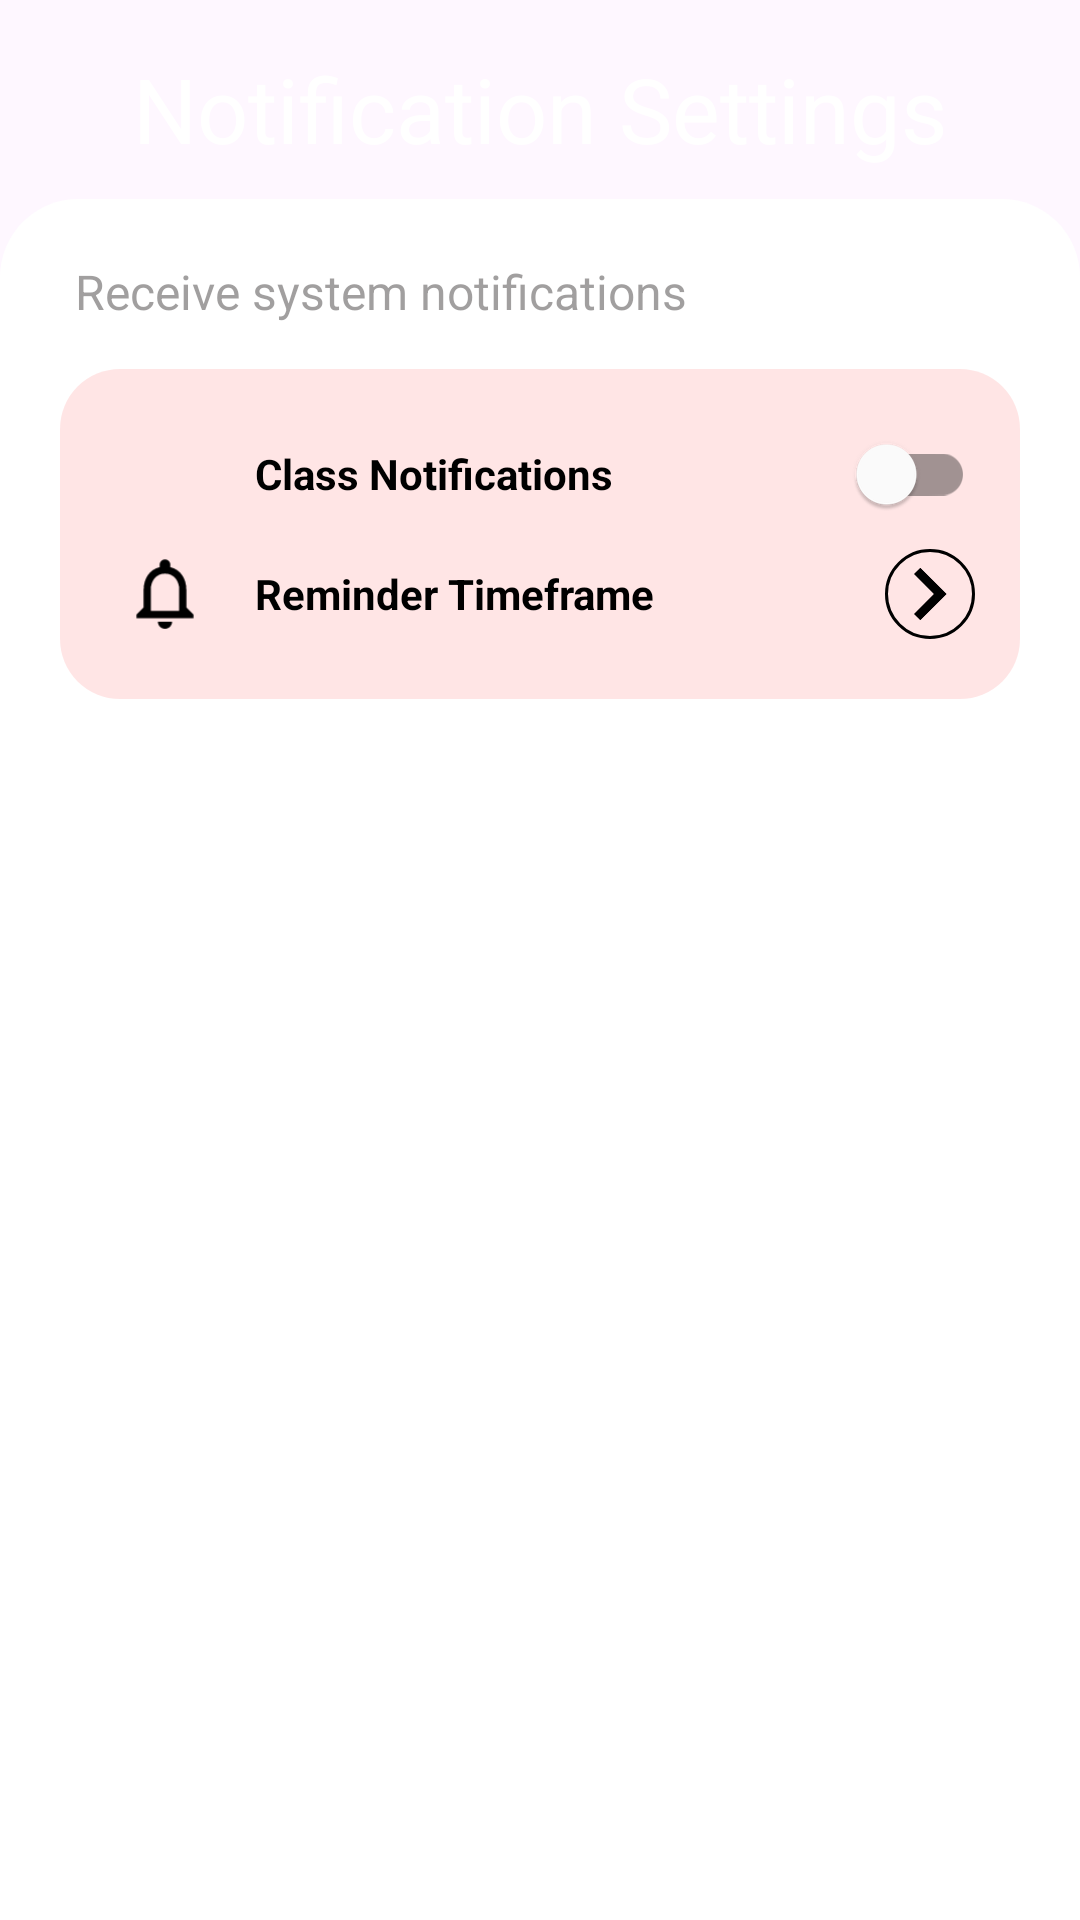

Locate icon controls on the screen. Image size 1080×1920, boxes as (x1, y1, x2, y2).
notificon: (136, 559, 194, 629)
rightarrow: (885, 549, 975, 639)
